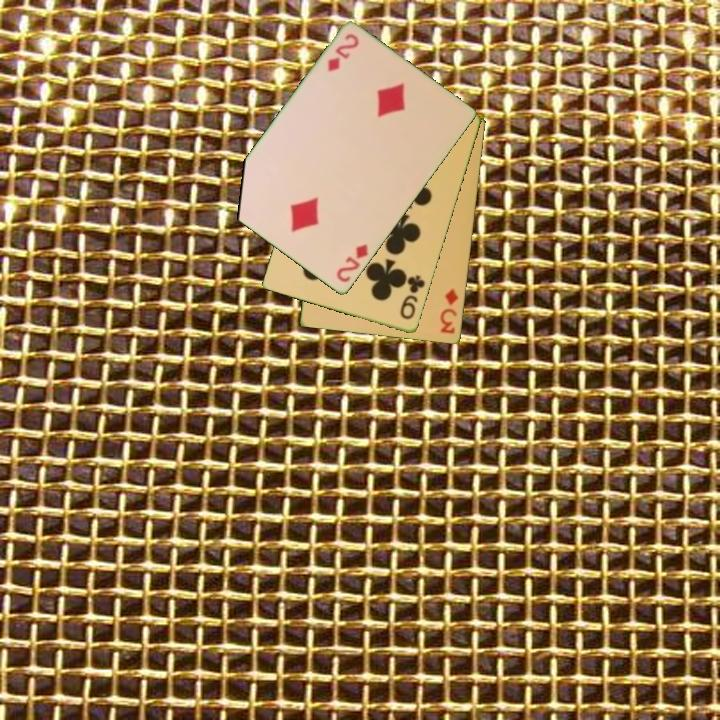2d: (333, 241, 371, 286), (324, 30, 362, 75)
3d: (437, 285, 461, 337)
9c: (396, 272, 428, 323)
